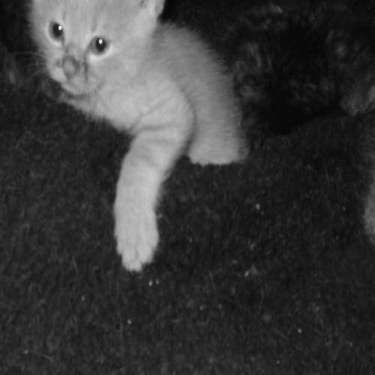cat: (6, 1, 248, 264)
